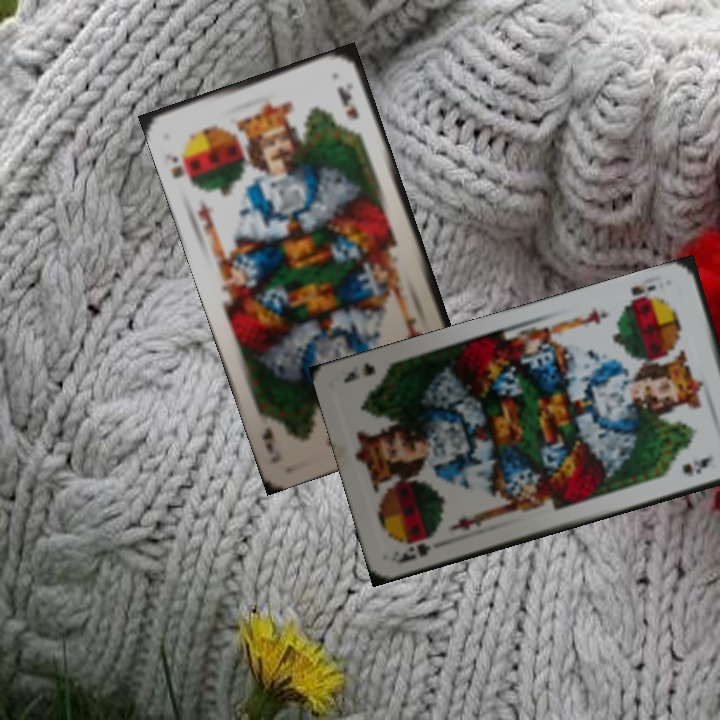SK: (391, 532, 438, 567), (160, 150, 197, 186), (620, 281, 661, 310)
